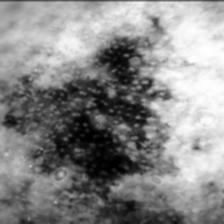Potentially Malignant Skin Tumors: (4, 35, 172, 177)
